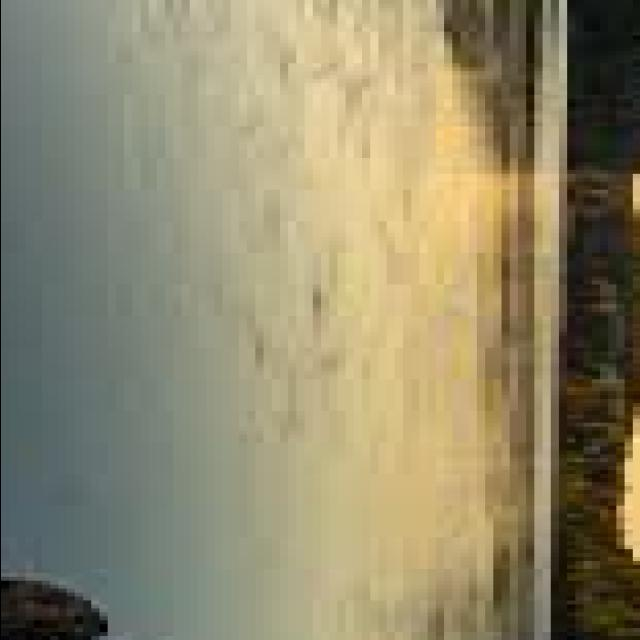-: (0, 0, 534, 494)
